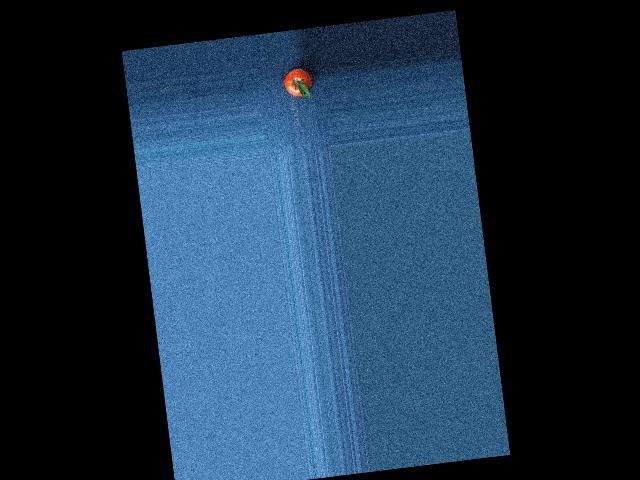tomato: (283, 67, 313, 98)
